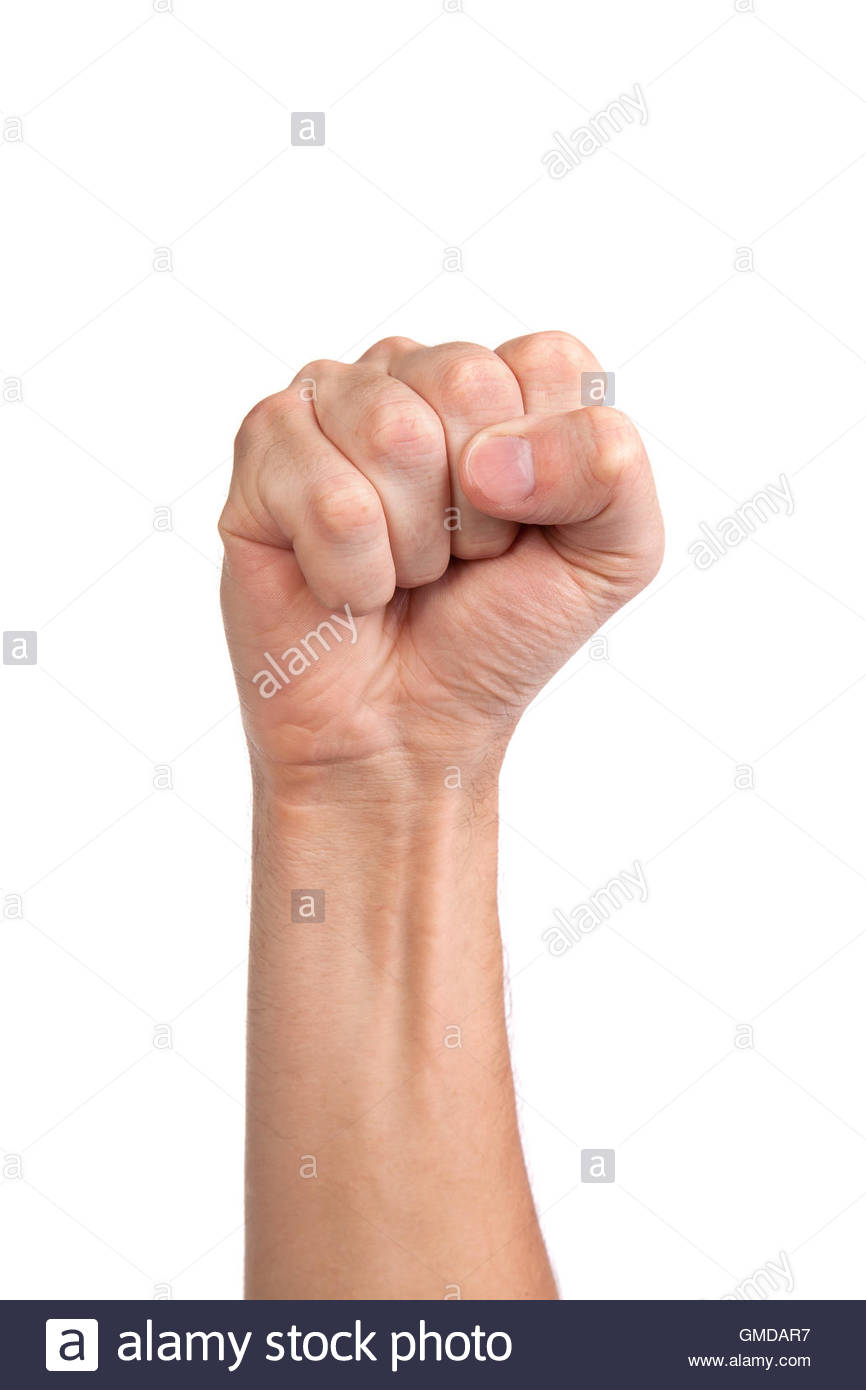fist: (209, 319, 683, 793)
